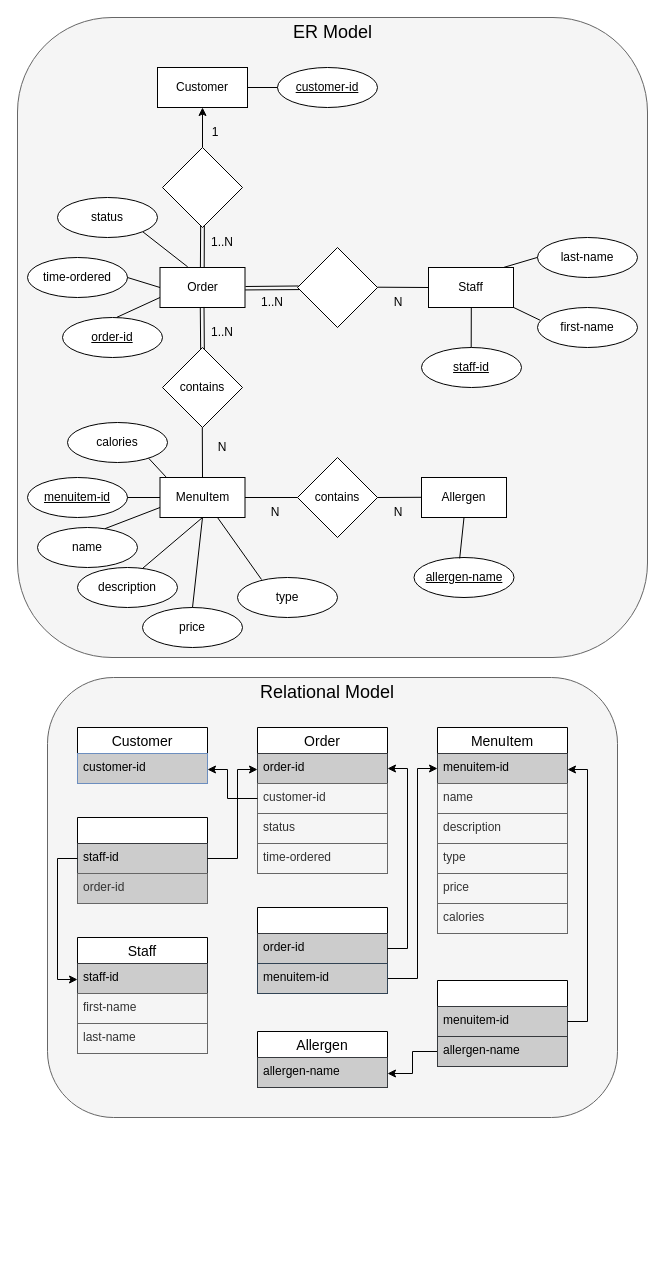
Some shapes in this 665 by 1261 pixel diagram are drawn without their labels. Each missing label, with the box of its shape:
handles: (296, 246, 378, 328)
makes: (162, 146, 242, 228)
MenuAllergen: (436, 980, 568, 1036)
OrderMenu: (256, 906, 388, 964)
StaffOrder: (76, 816, 208, 874)
